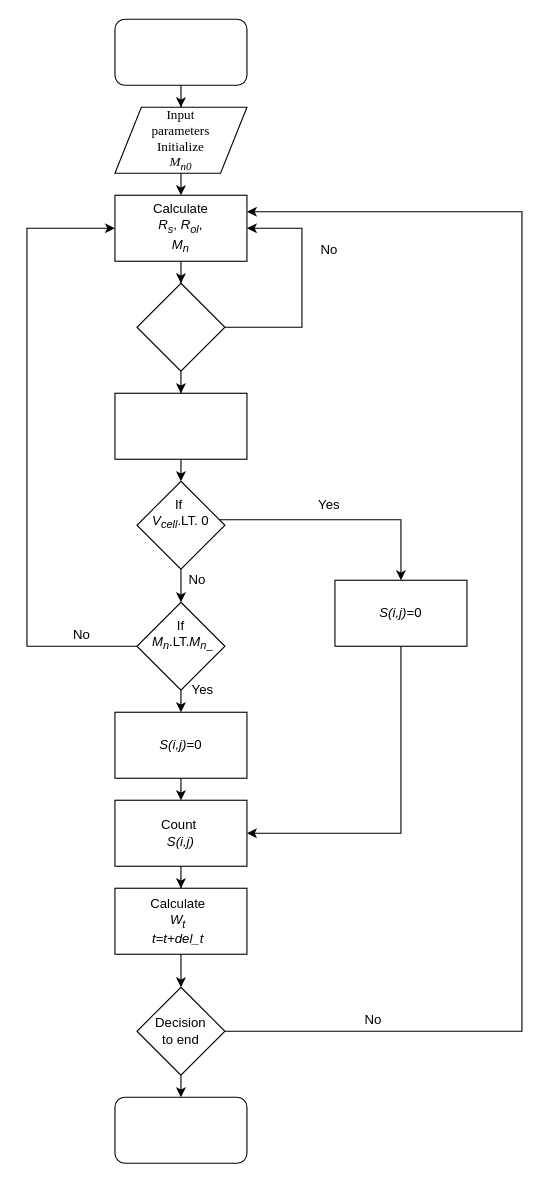
Image size: 550x1183. Some labels were removed from this diagram. Here are the shapes that lost their labels. From the top down, the centre of each, then its label:
At (180,51): "Start".
At (180,326): "If next to hole".
At (180,425): "V cell".
At (180,1129): "End".
